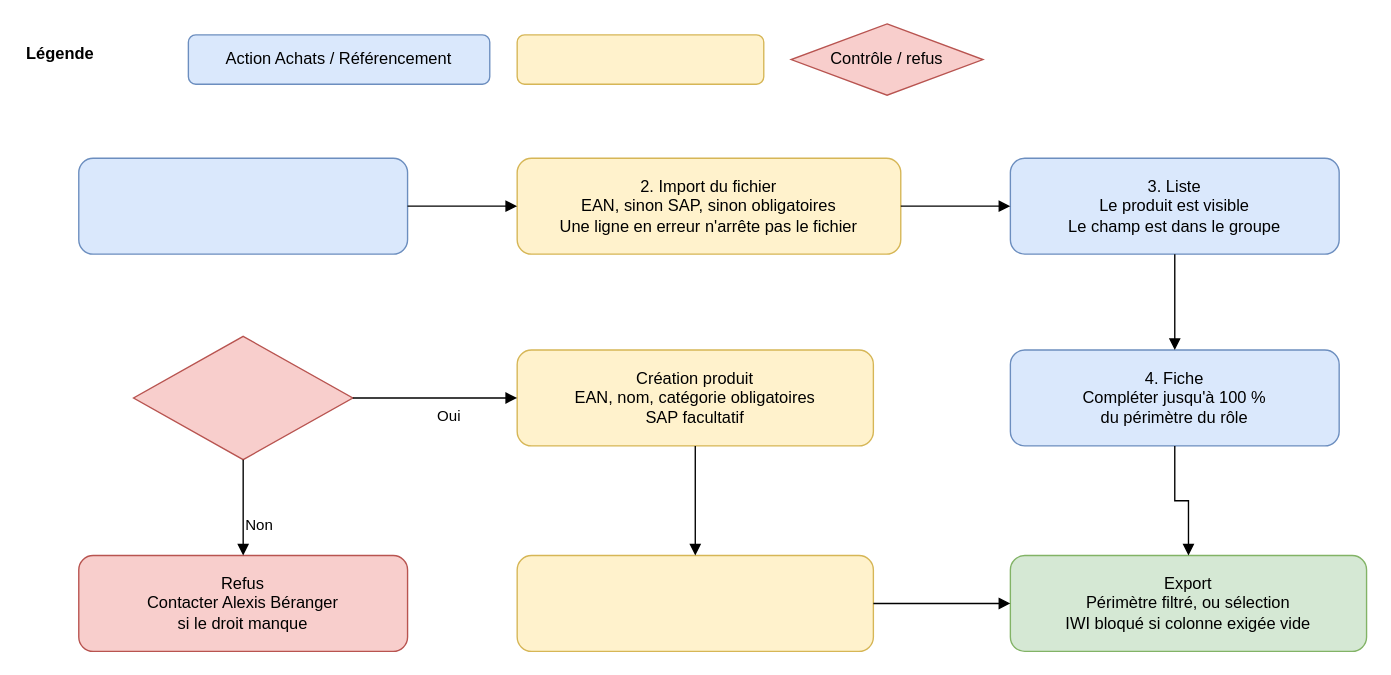
The diagram is 1391 pixels wide and 675 high, and some of its shapes have lost their labels. The shapes that lost their labels are listed below. From the top down, each one's centre as x and y in pixels, then its label:
At [640,59]: "Action dans OctoPIM".
At [242,205]: "1. Attribut manquant Admin Achats crée l'attribut (type, contraintes, groupe)".
At [242,397]: "Droit d'écriture sur la catégorie ?".
At [694,602]: "Enregistrer Historique + date de mise à jour Obligatoire visible vide = refus".
